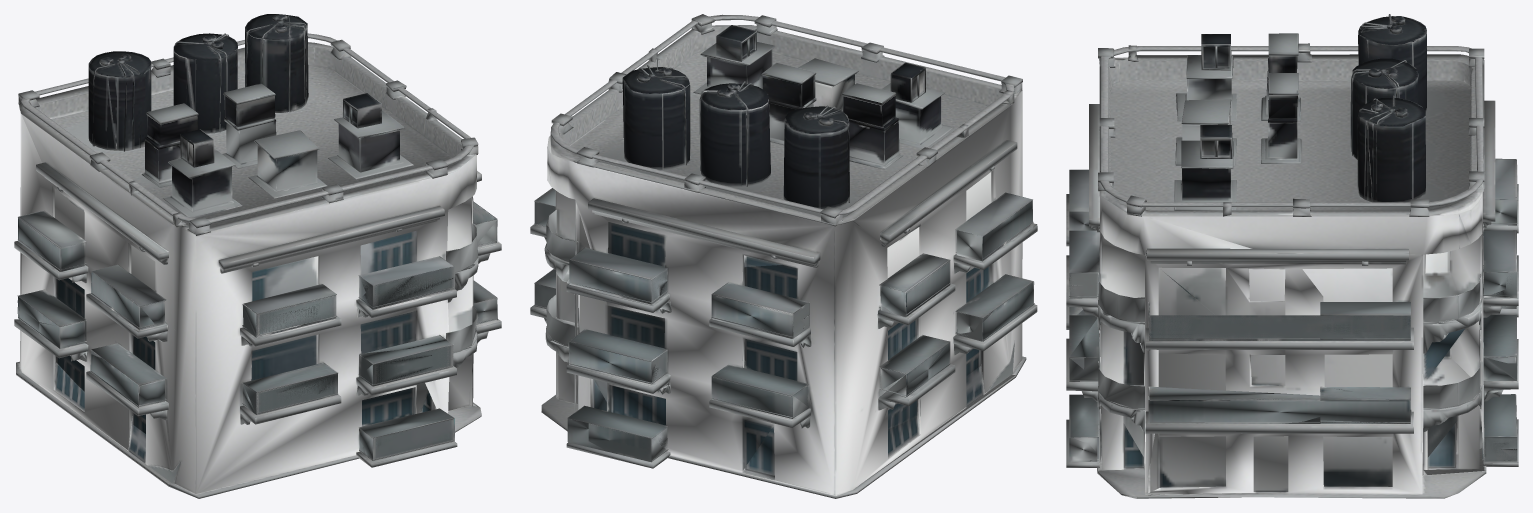
The model's file is departamentos.glb.
3 renders of one model, left to right at view 1: azimuth 30°, elevation 25°; view 2: azimuth 150°, elevation 25°; view 3: azimuth 270°, elevation 25°, orthographic. The views are drawn at different scales.
Size of the model in its own units: 0.9458 by 0.8267 by 0.9478.
Materials: 1 (1 with a texture image).
